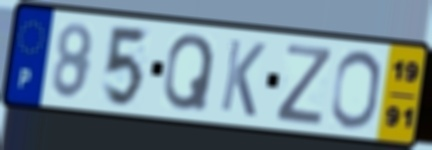5: (98, 24, 152, 109)
8: (49, 21, 95, 101)
K: (217, 36, 268, 120)
O: (328, 48, 383, 132)
Q: (161, 31, 218, 114)
Z: (273, 41, 335, 128)
